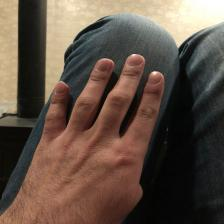four: (33, 52, 168, 218)
